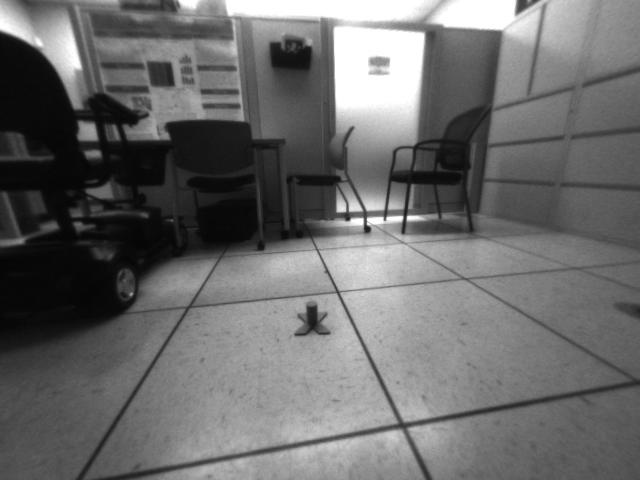X: (295, 301, 332, 335)
